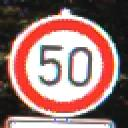speed_limit_50: (10, 16, 119, 118)
